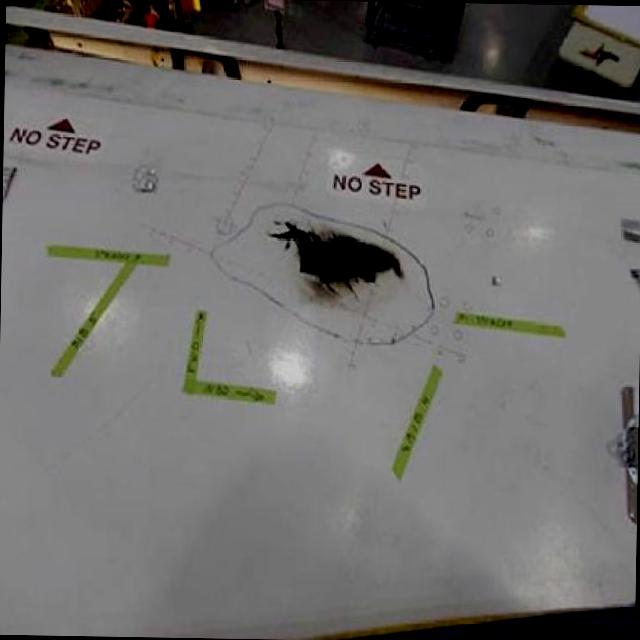crack: (266, 219, 405, 299)
